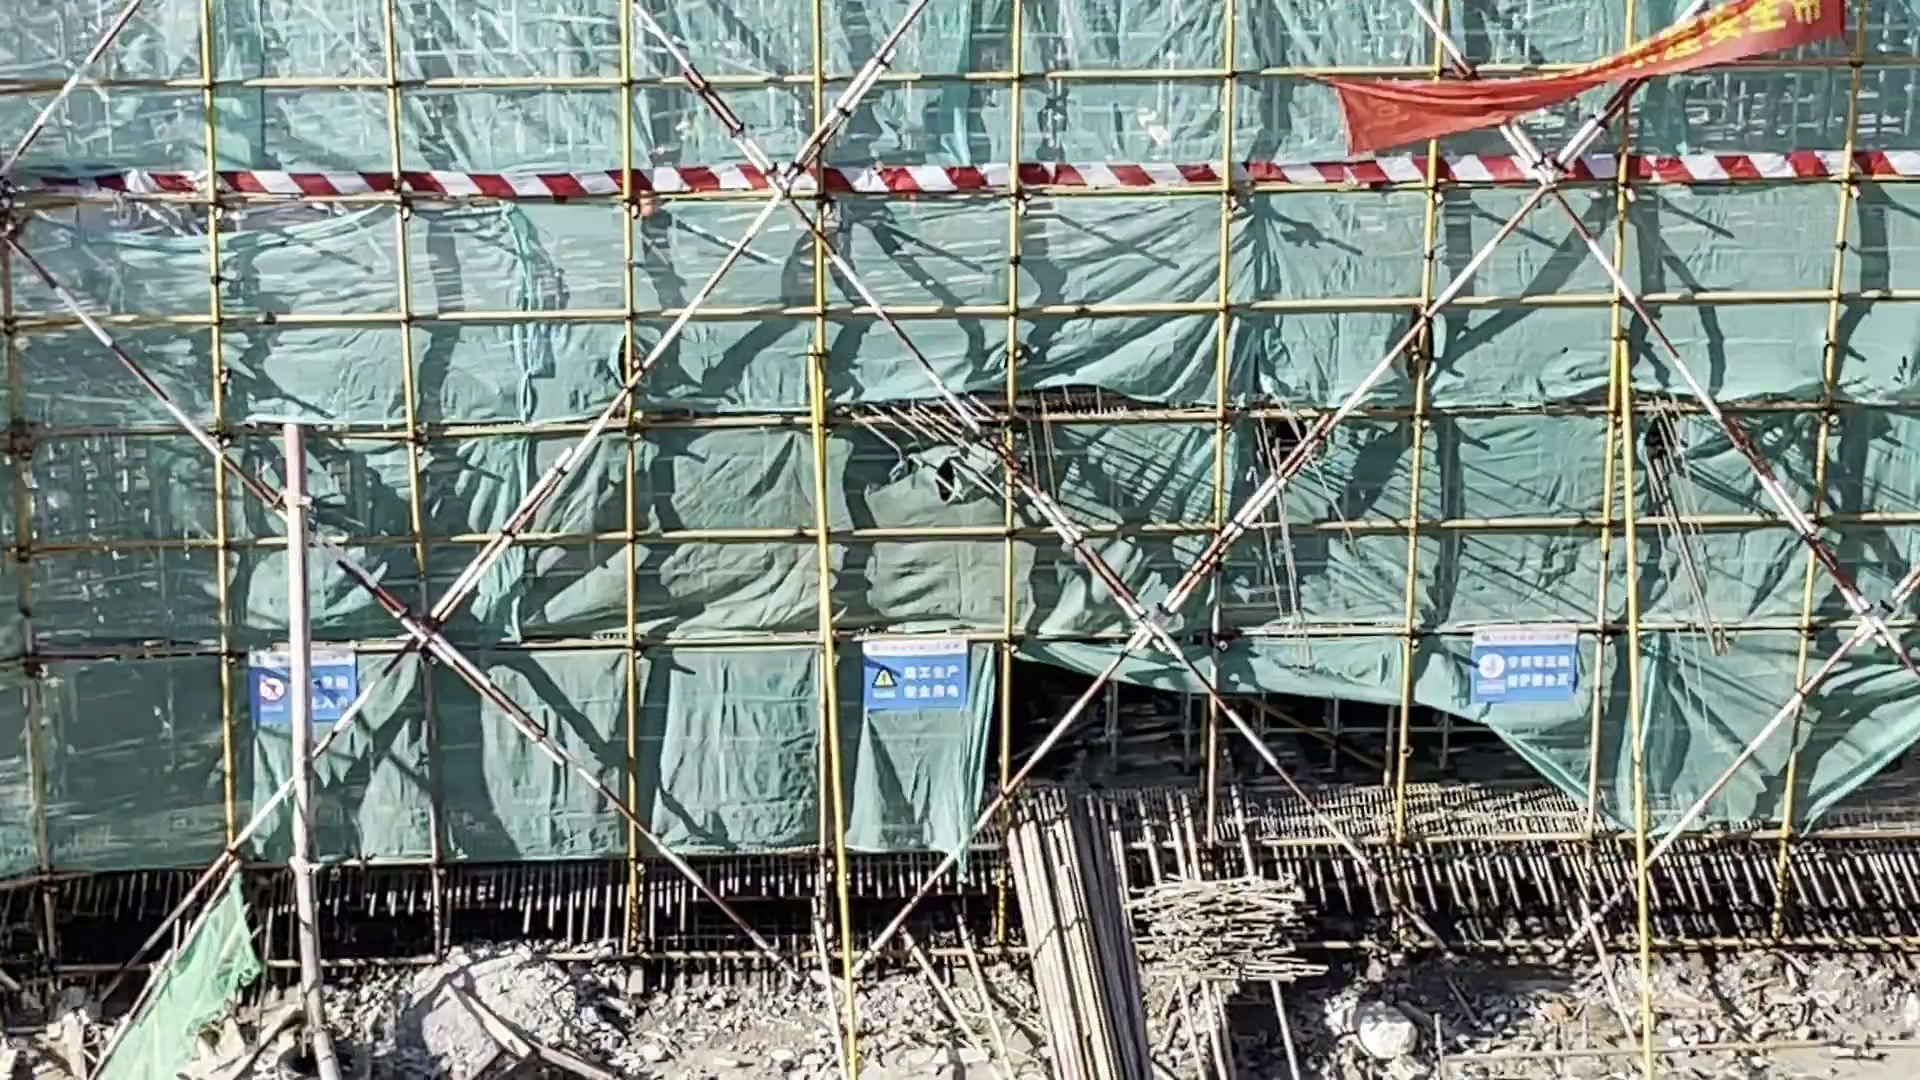slogan: (1296, 1, 1857, 136), (1465, 613, 1604, 742), (231, 630, 372, 746), (851, 618, 969, 721)
